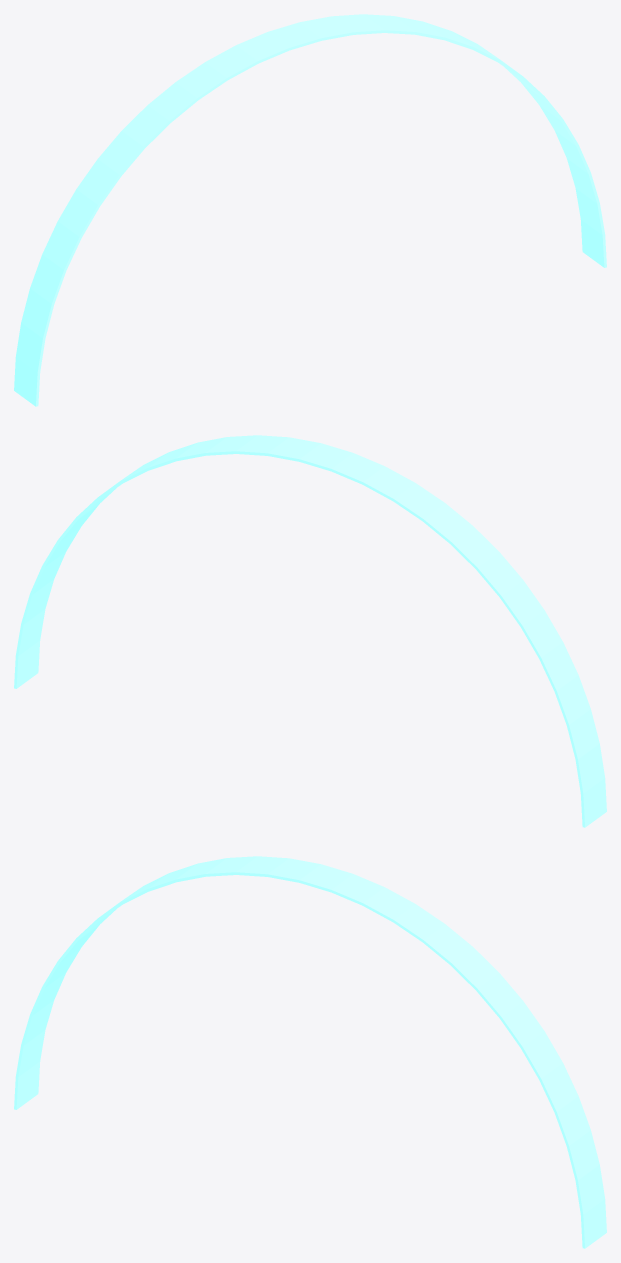
The model's file is EntryGlow.fbx.
3 renders of one model, top to bottom at view 1: azimuth 30°, elevation 25°; view 2: azimuth 150°, elevation 25°; view 3: azimuth 330°, elevation 25°, orthographic.
Visible parts, largest first — view 1: EntryGlowArch.001; view 2: EntryGlowArch.001; view 3: EntryGlowArch.001.
Boxes of the visible parts, left/top/right/bottom form: EntryGlowArch.001: left=14, top=14, right=606, bottom=406; EntryGlowArch.001: left=14, top=435, right=606, bottom=827; EntryGlowArch.001: left=14, top=856, right=606, bottom=1248.
Size of the model in its own units: 11160 by 5580 by 740.
